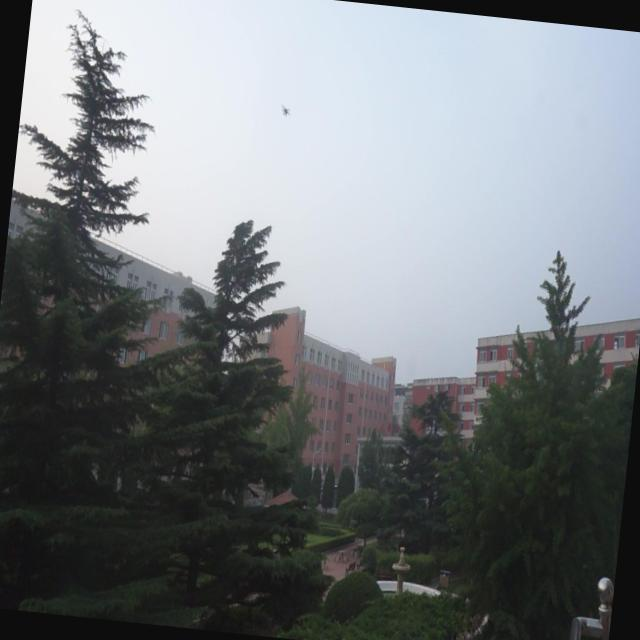drone: (278, 100, 294, 118)
